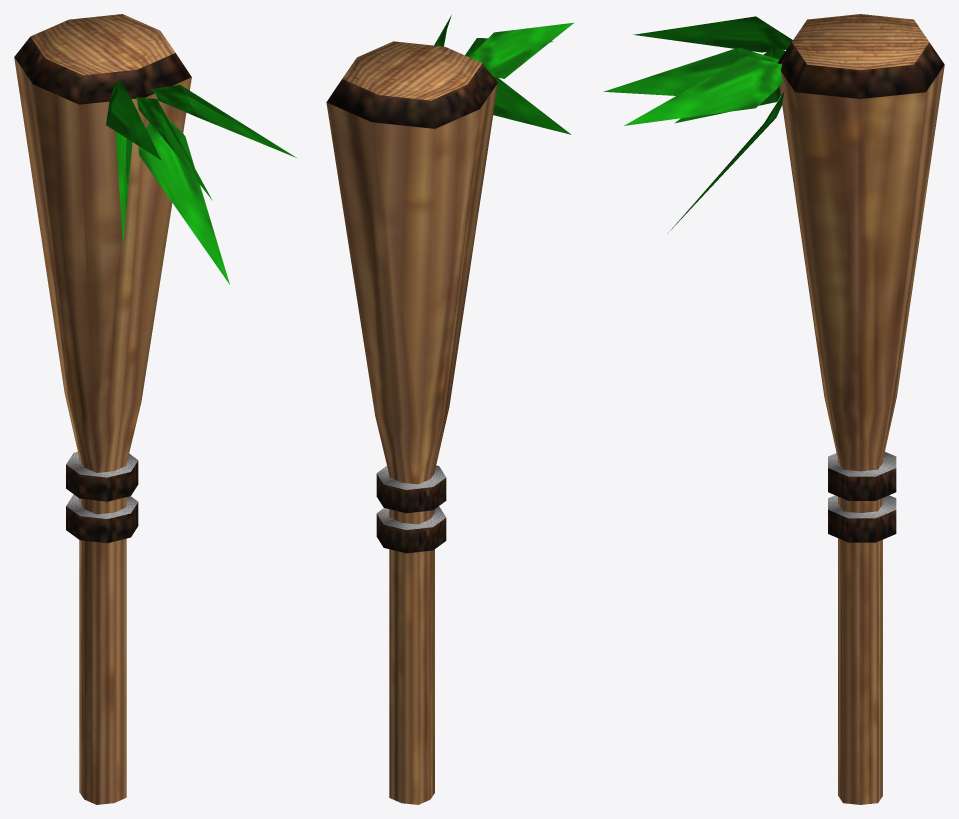
Rendered from maya_maca_elite.dae.
The picture shows the model from 3 angles, left to right: view 1: azimuth 30°, elevation 25°; view 2: azimuth 150°, elevation 25°; view 3: azimuth 270°, elevation 25°; orthographic projection. The views are drawn at different scales.
Parts seen in each view (by area): view 1: maya_maca_elite; view 2: maya_maca_elite; view 3: maya_maca_elite.
Part boxes in pixels (x1,y1,x2,y2): maya_maca_elite: [14, 14, 296, 804]; maya_maca_elite: [326, 15, 573, 804]; maya_maca_elite: [603, 14, 944, 804].
Size of the model in its own units: 0.5101 by 1.01 by 2.48.
Materials: 1 (1 with a texture image).
